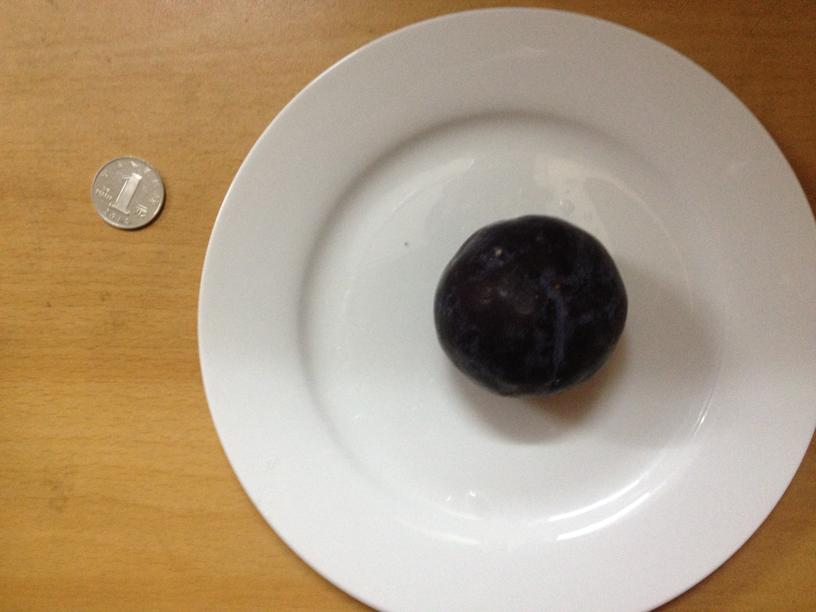coin: (89, 156, 170, 231)
plum: (432, 218, 626, 395)
